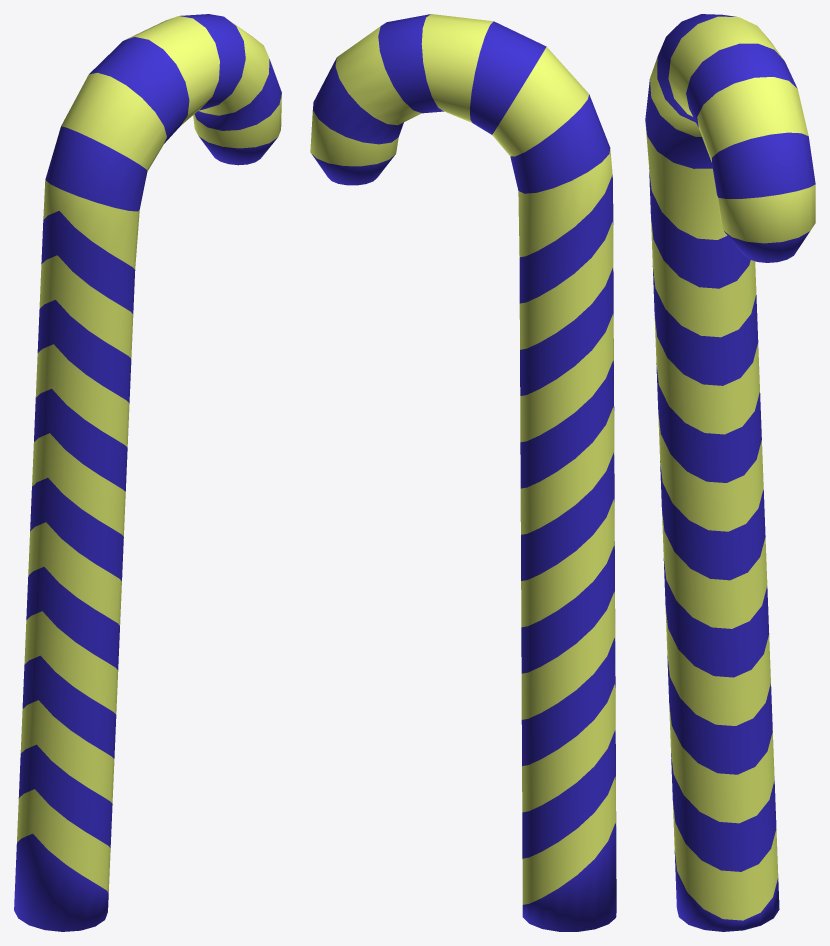
The model's file is candy_cane_yb3.fbx.
The picture shows the model from 3 angles, left to right: view 1: azimuth 30°, elevation 25°; view 2: azimuth 150°, elevation 25°; view 3: azimuth 270°, elevation 25°; orthographic projection. The views are drawn at different scales.
Parts seen in each view (by area): view 1: Cylinder; view 2: Cylinder; view 3: Cylinder.
Boxes of the visible parts, <box> form: Cylinder: <box>14,14,281,931</box>; Cylinder: <box>310,14,616,931</box>; Cylinder: <box>645,14,815,931</box>.
Size of the model in its own units: 637 by 1911 by 314.
